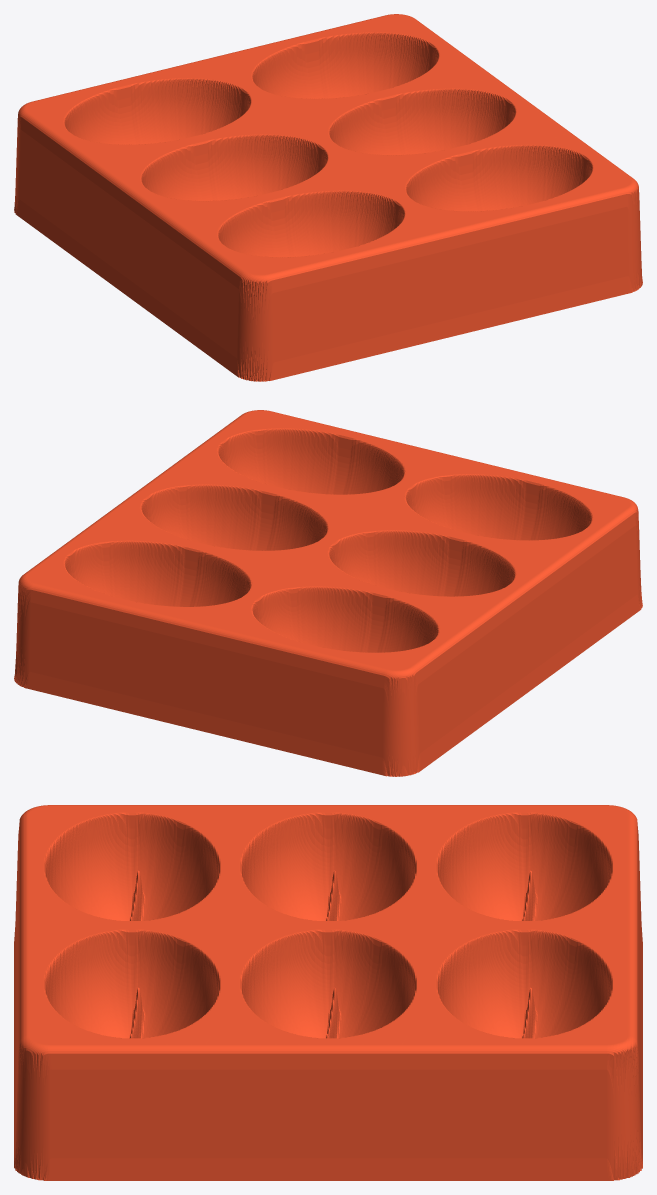
Rendered from mold.glb.
3 renders of one model, top to bottom at view 1: azimuth 30°, elevation 25°; view 2: azimuth 150°, elevation 25°; view 3: azimuth 270°, elevation 25°, orthographic. The views are drawn at different scales.
Parts seen in each view (by area): view 1: geometry_0; view 2: geometry_0; view 3: geometry_0.
Part boxes in pixels (box(x1,y1,x2,y2)): geometry_0: box(14, 14, 642, 381); geometry_0: box(14, 410, 642, 776); geometry_0: box(14, 805, 642, 1180).
Bounding box in the file's own units: 0.1492 × 0.036 × 0.1579.
